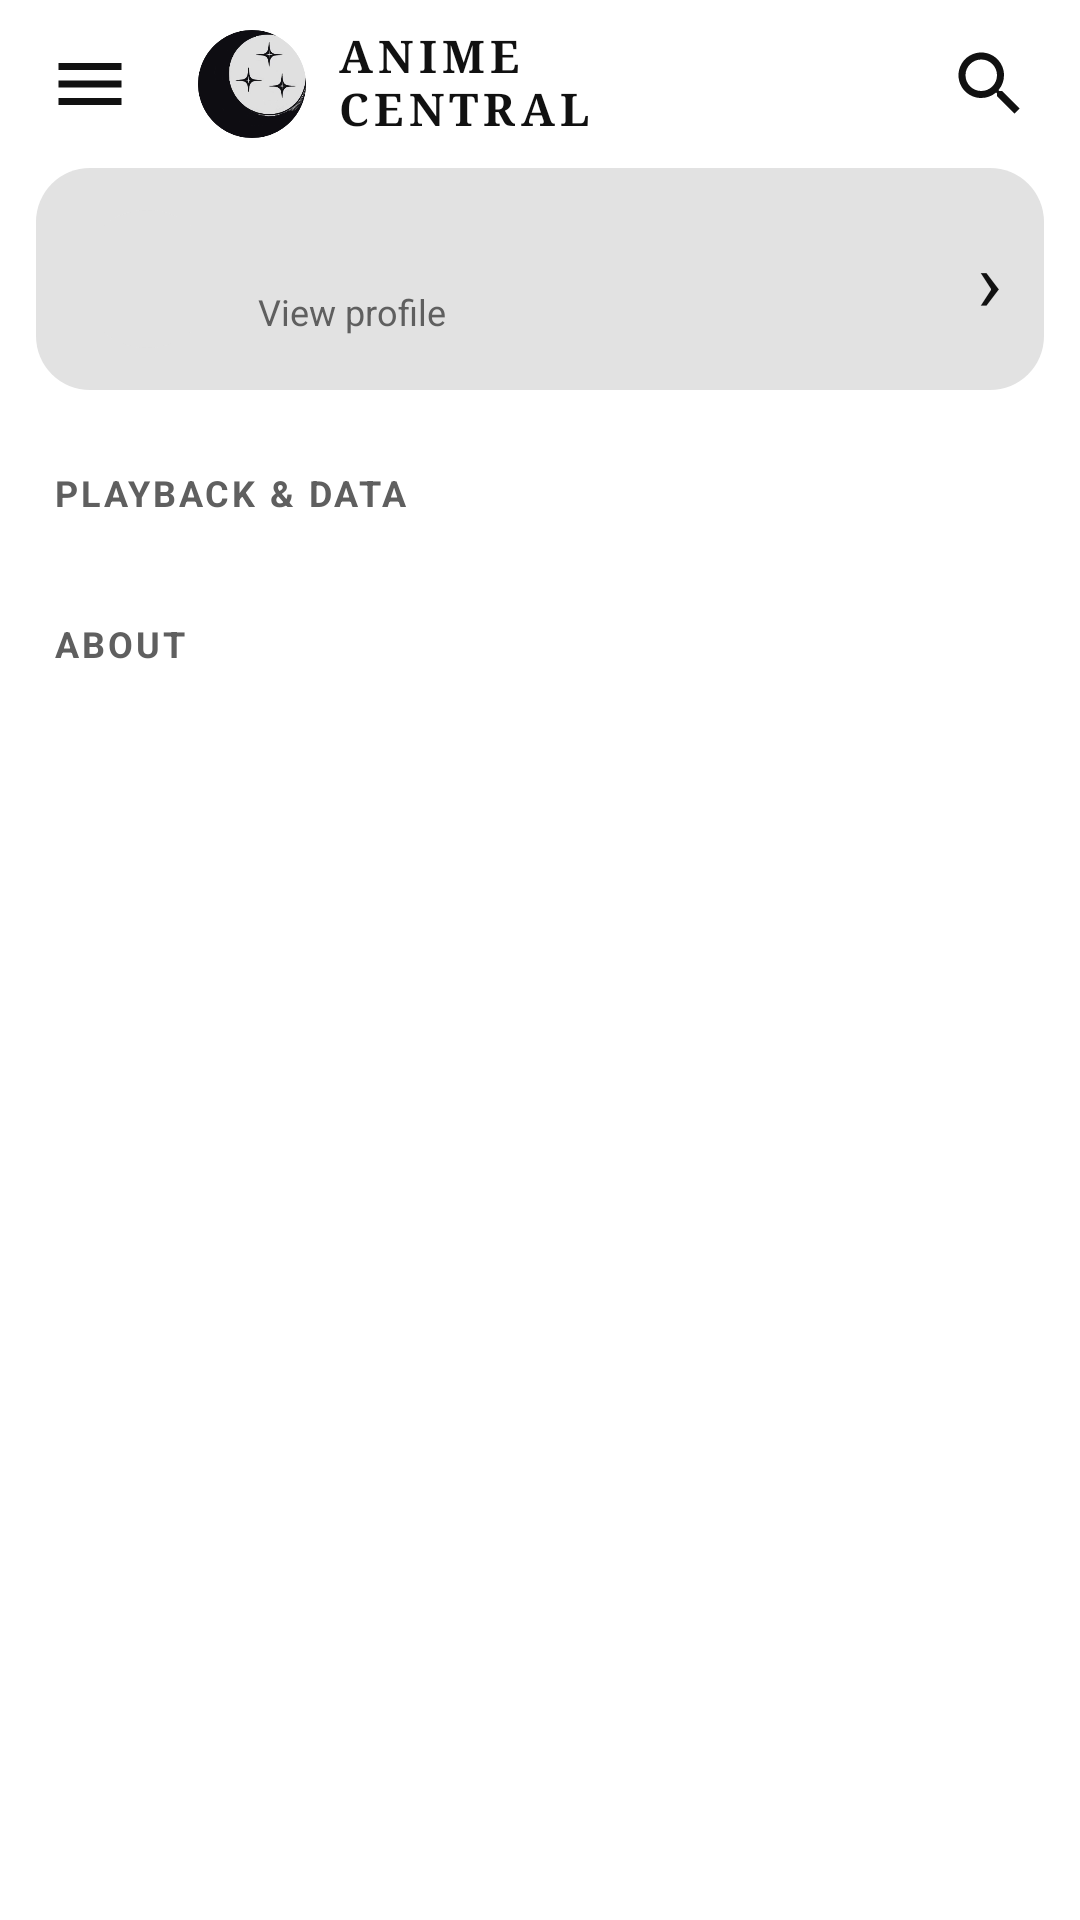

Screen size 1080px x 1920px. Icon name, then its center in pixels as (x,y):
Menu: (90,84)
Search: (989,83)
